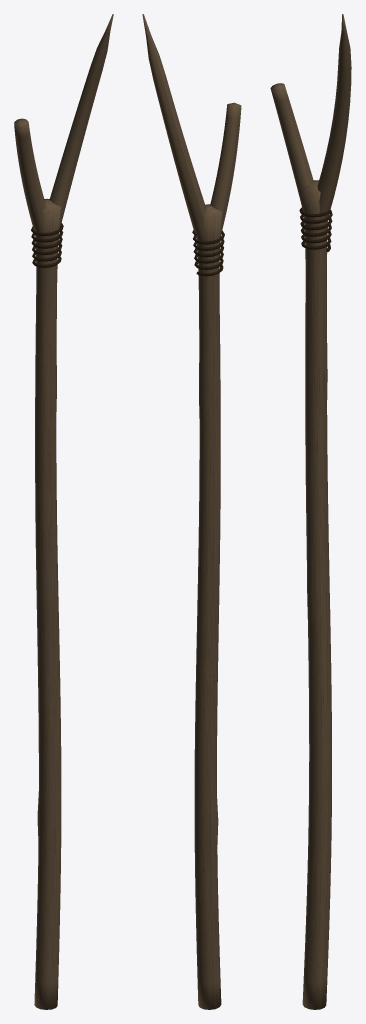
File: hayfork_p1_w2.glb
3 views of the same model, side by side, from view 1: azimuth 30°, elevation 25°; view 2: azimuth 210°, elevation 25°; view 3: azimuth 330°, elevation 25° (orthographic). The views are drawn at different scales.
Parts seen in each view (by area): view 1: hayfork_p1_w2; view 2: hayfork_p1_w2; view 3: hayfork_p1_w2.
Boxes of the visible parts, x1,y1,x2,y2 form: hayfork_p1_w2: [14, 14, 113, 1009]; hayfork_p1_w2: [142, 14, 241, 1009]; hayfork_p1_w2: [270, 14, 351, 1009].
Bounding box in the file's own units: 0.1468 × 1.66 × 0.0853.
2 materials, 1 textured.
